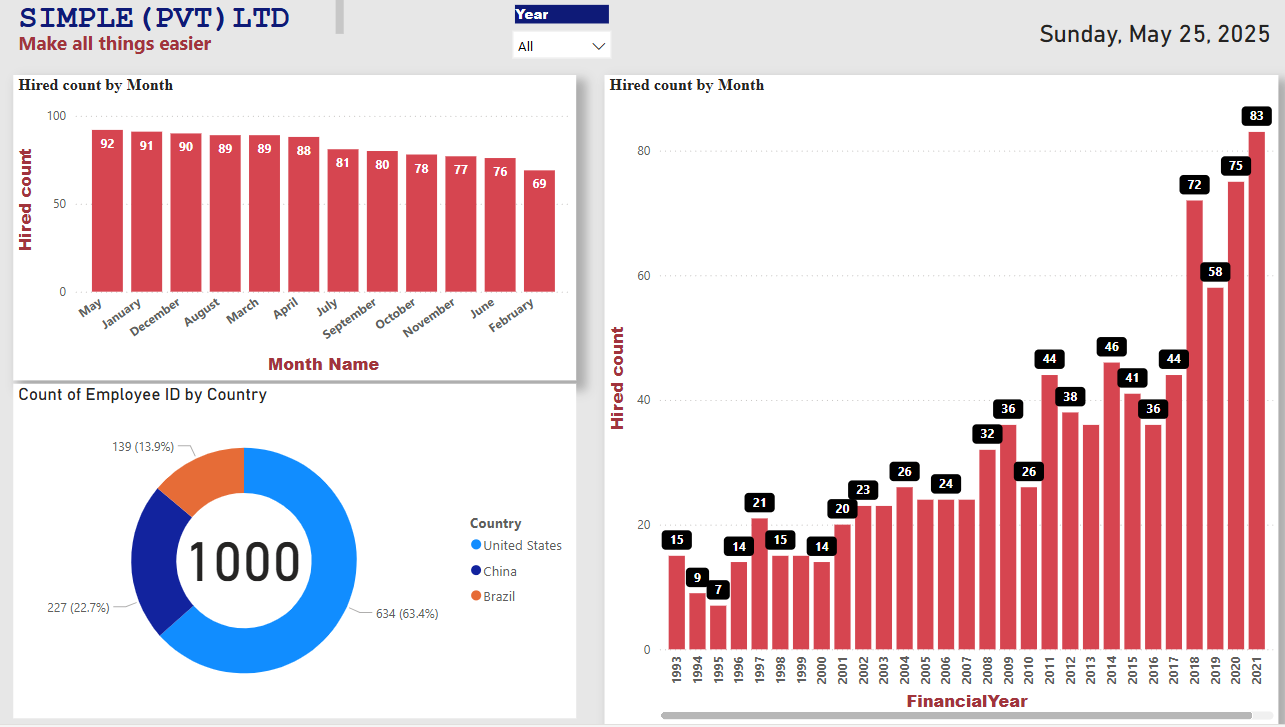

Layout of this report page (visuals, bound fields, positions):
{"tool":"powerbi","page":{"name":"Page 1","canvas":[1280,720],"ordinal":0},"visuals":[{"type":"clusteredColumnChart","title":"Hired count  by Month","fields":{"Y":["CountNonNull(Employee Sample Data.Employee ID)"],"Category":["DateTable.MonthName"]},"box":[15.7,78.4,556.2,301.6],"z":0},{"type":"clusteredColumnChart","title":"Hired count  by Month","fields":{"Y":["CountNonNull(Employee Sample Data.Employee ID)"],"Category":["DateTable.FinancialYear"]},"box":[599.6,78.4,666,641.8],"z":1000},{"type":"donutChart","fields":{"Y":["CountNonNull(Employee Sample Data.Employee ID)"],"Category":["Employee Sample Data.Country"]},"box":[15.7,383.6,556.2,330.6],"z":2000},{"type":"card","fields":{"Values":["CountNonNull(Employee Sample Data.Employee ID)"]},"box":[166.5,532,152,62.7],"z":3000},{"type":"textbox","box":[15.7,0,331.8,44.6],"z":4000},{"type":"textbox","box":[15.7,30.2,301.6,48.3],"z":5000},{"type":"card","fields":{"Values":["Data.Today"]},"box":[1021.9,10.9,243.7,51.9],"z":6000},{"type":"slicer","fields":{"Values":["DateTable.FinancialYear"]},"box":[498.3,4.8,118.2,57.9],"z":7000}]}

Visuals, with their boxes in screenshot pixels (x1, y1, x2, y2), scaled from the page's 1280x720 canvas onto the 1285x727 screenshot:
"Hired count  by Month" clusteredColumnChart: (x1=16, y1=79, x2=574, y2=384)
"Hired count  by Month" clusteredColumnChart: (x1=602, y1=79, x2=1271, y2=726)
donutChart - CountNonNull(Employee Sample Data.Employee ID) x Employee Sample Data.Country: (x1=16, y1=387, x2=574, y2=721)
card - CountNonNull(Employee Sample Data.Employee ID): (x1=167, y1=537, x2=320, y2=600)
textbox: (x1=16, y1=0, x2=349, y2=45)
textbox: (x1=16, y1=30, x2=319, y2=79)
card - Data.Today: (x1=1026, y1=11, x2=1271, y2=63)
slicer - DateTable.FinancialYear: (x1=500, y1=5, x2=619, y2=63)
